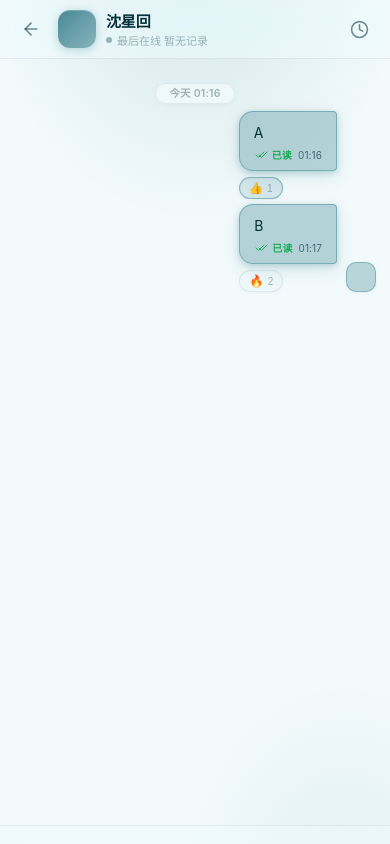
Test: PrivateMessageChat 表情回应（dm-reaction） › 点击回应按钮触发 POST，本地计数乐观更新
// m2 的 🔥（非 mine）：点击后乐观 +1 → 2→3
Click the button with class "dm-reaction" showing "🔥 2" at [261, 281], box [239,270,283,292]
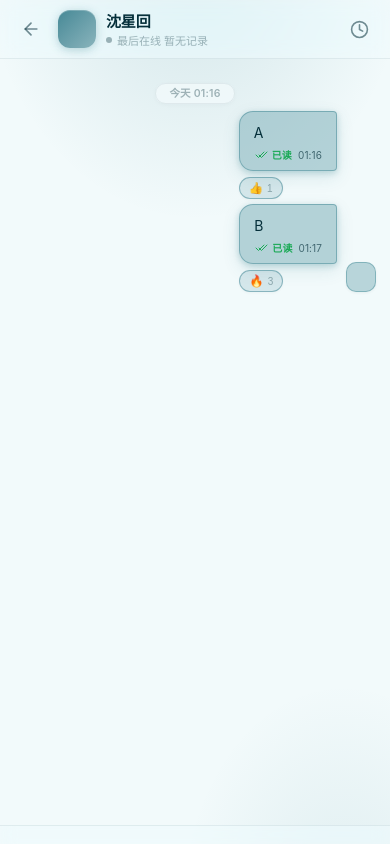
Now the button with class "dm-reaction" shows "3", box [239,270,283,292]
